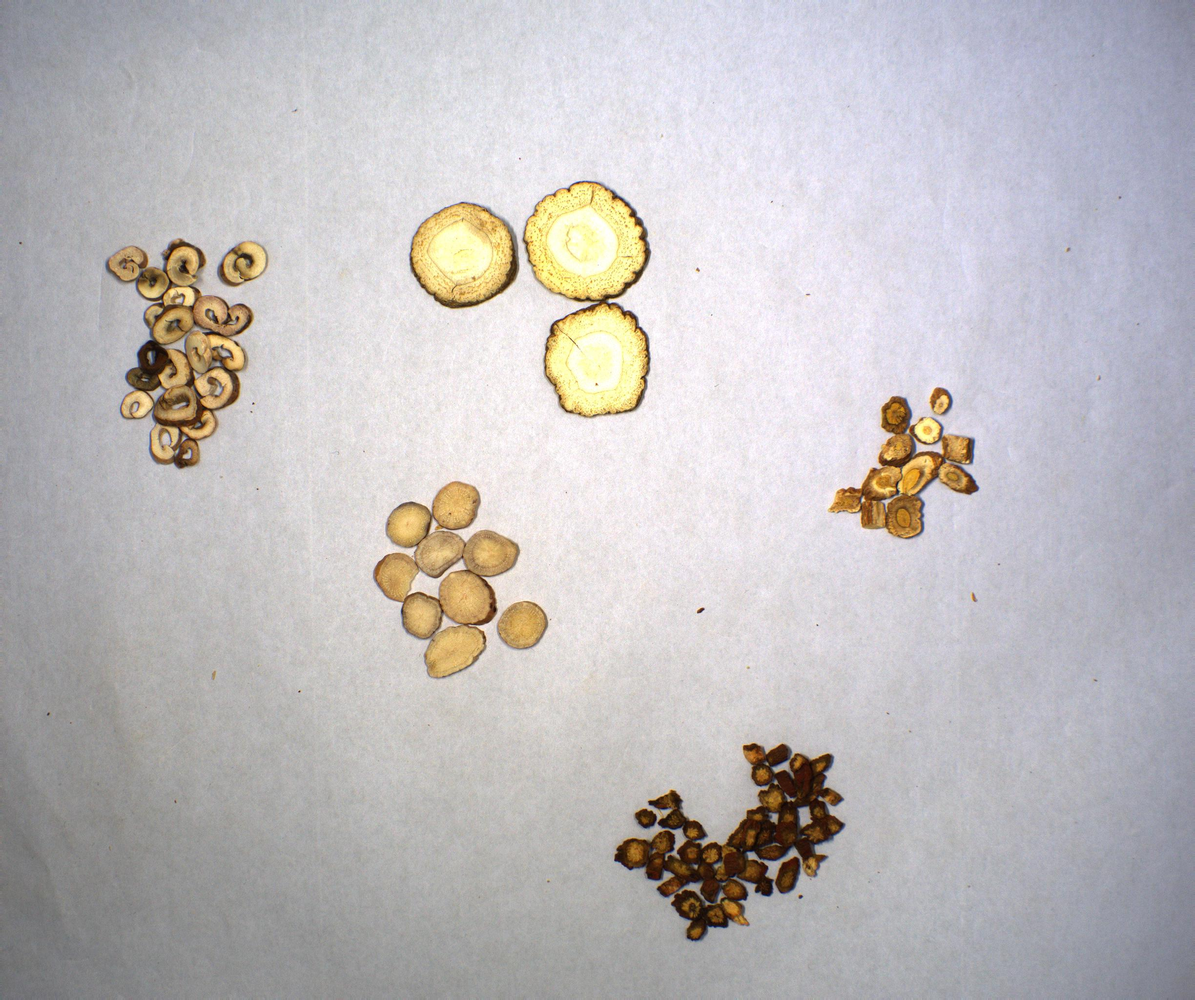baishao: (369, 477, 554, 675)
baizhi: (409, 175, 647, 418)
banlangen: (841, 385, 979, 541)
danshen: (615, 737, 850, 947)
mudanpi: (101, 241, 269, 469)
